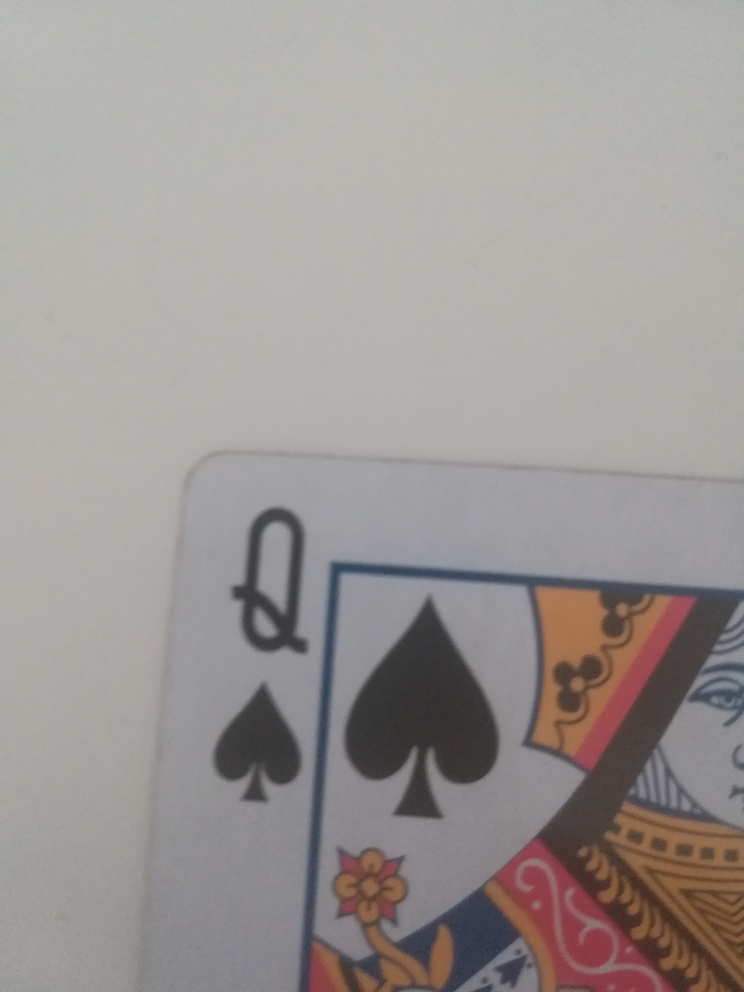QS: (201, 495, 327, 810)
